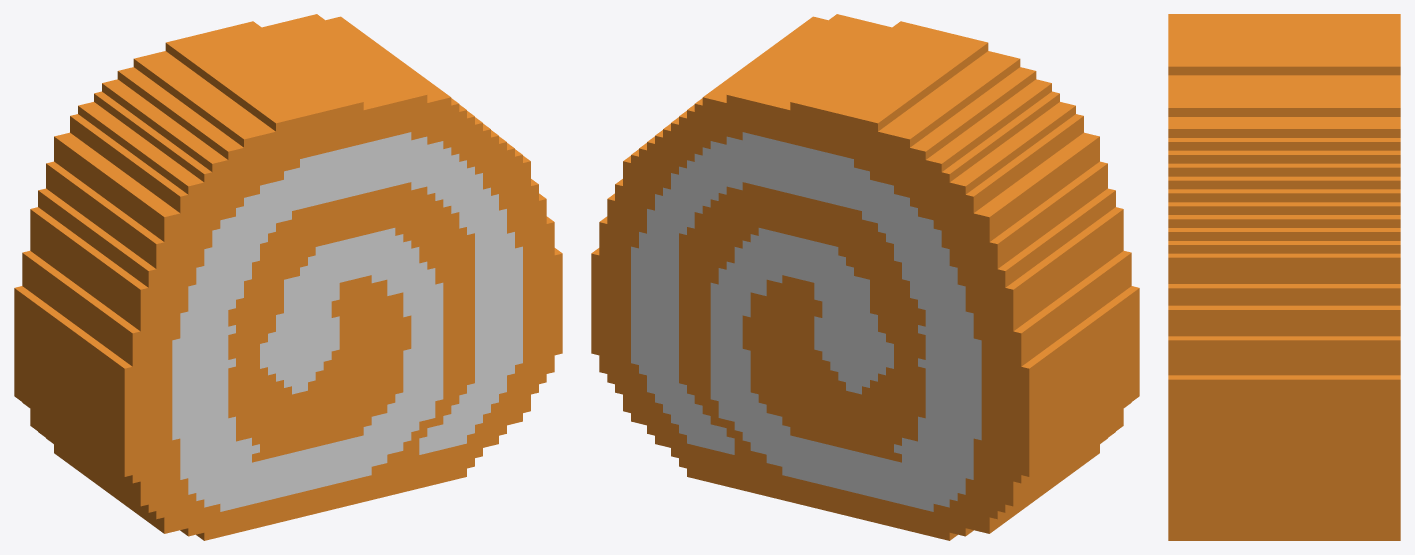
The model's file is rollcake.obj.
3 views of the same model, side by side, from view 1: azimuth 30°, elevation 25°; view 2: azimuth 150°, elevation 25°; view 3: azimuth 270°, elevation 25° (orthographic). The views are drawn at different scales.
Visible parts, largest first — view 1: rollcake; view 2: rollcake; view 3: rollcake.
Part boxes in pixels (x1=…): rollcake: x1=14, y1=14, x2=562, y2=540; rollcake: x1=591, y1=14, x2=1139, y2=540; rollcake: x1=1168, y1=14, x2=1400, y2=540.
Bounding box in the file's own units: 55 × 48 × 24.
1 material, 1 textured.
